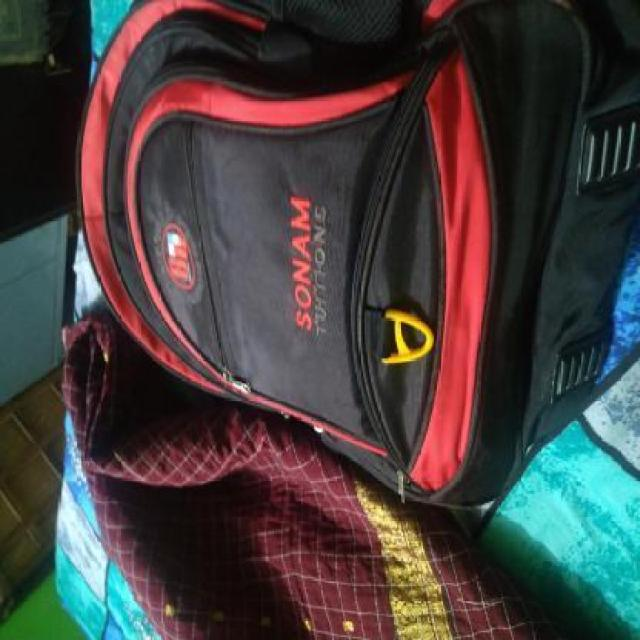backpack: (52, 0, 639, 532)
